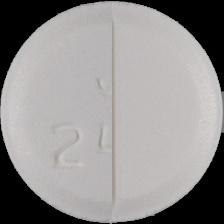63629-4169: (0, 0, 224, 224)
